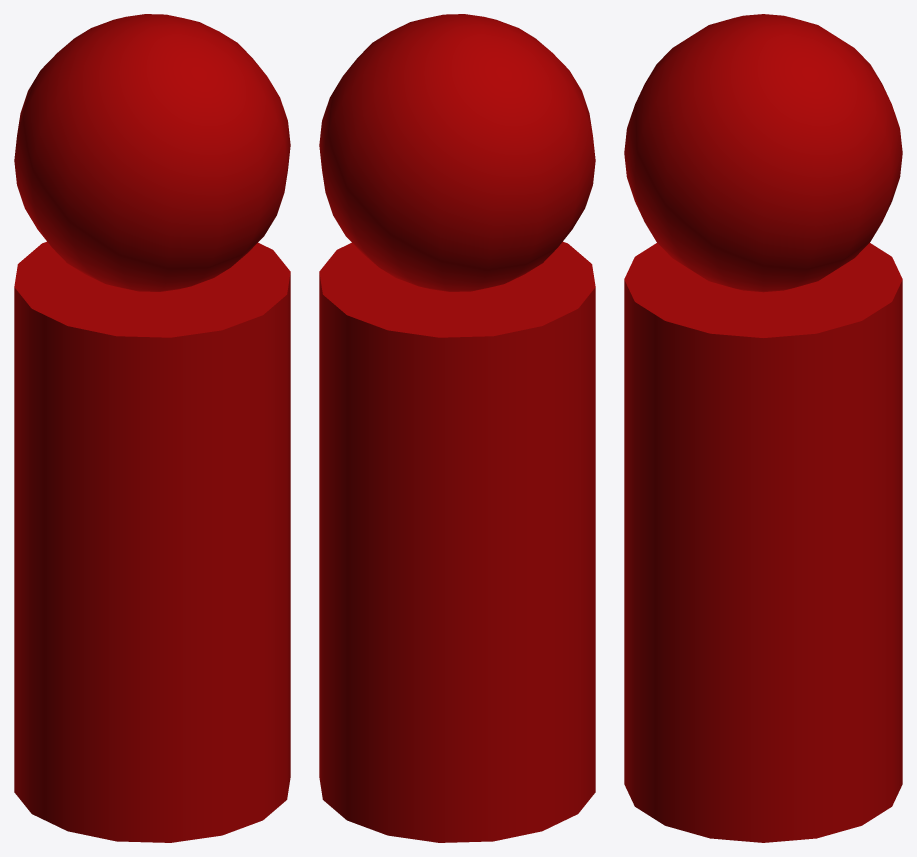
The model's file is Player.fbx.
The picture shows the model from 3 angles, left to right: view 1: azimuth 30°, elevation 25°; view 2: azimuth 150°, elevation 25°; view 3: azimuth 270°, elevation 25°; orthographic projection.
Visible parts, largest first — view 1: Body, Head; view 2: Body, Head; view 3: Body, Head.
Part boxes in pixels (box(x1,y1,x2,y2)): Body: box(14, 241, 290, 842); Head: box(14, 14, 290, 291); Body: box(319, 241, 595, 842); Head: box(319, 14, 595, 291); Body: box(624, 243, 902, 842); Head: box(624, 14, 902, 292).
Size of the model in its own units: 1 by 3 by 1.
